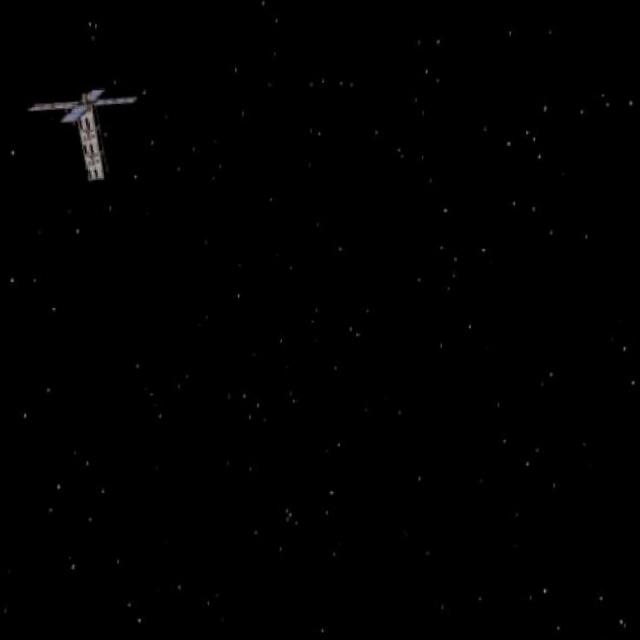satellite: (25, 70, 171, 196)
